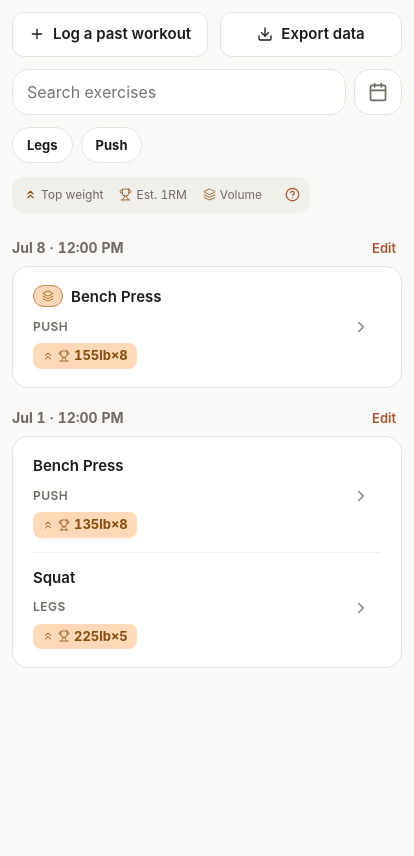
HistoryTab PR markers, search/tag filtering, and click-to-filter › search filters entries by exercise name, dropping sessions left with none
The width and height of the screenshot is (414, 856).
Expected: the button "Push" is shown, [81,127,142,163]
Type "squat" into the search field labelled "Search exercises". click: (179, 92)
box: [12,69,346,115]
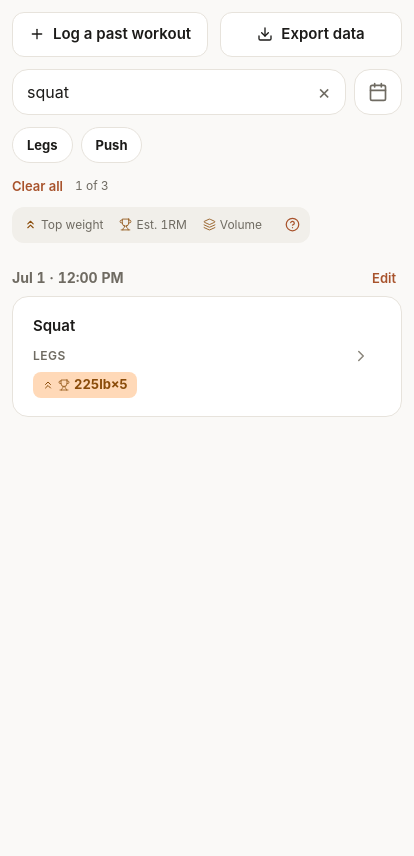
Expected: the text "Squat" is shown, [33,315,75,337]
Expected: the button "Bench Press" is gone
